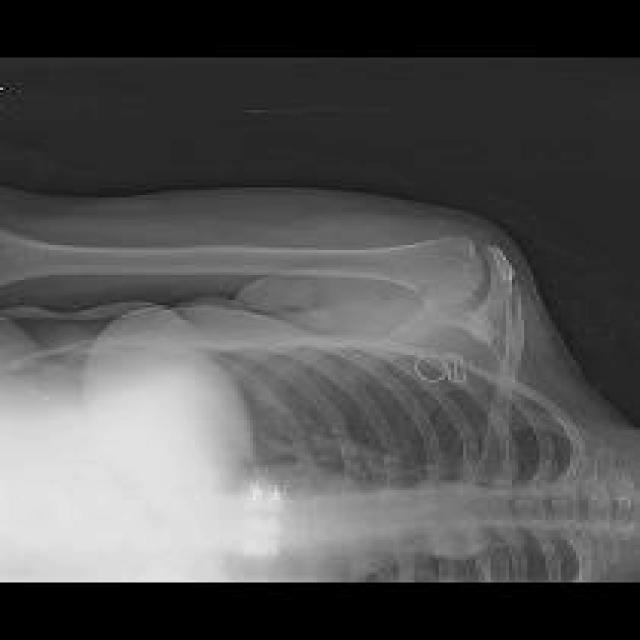normal: (2, 226, 485, 311)
